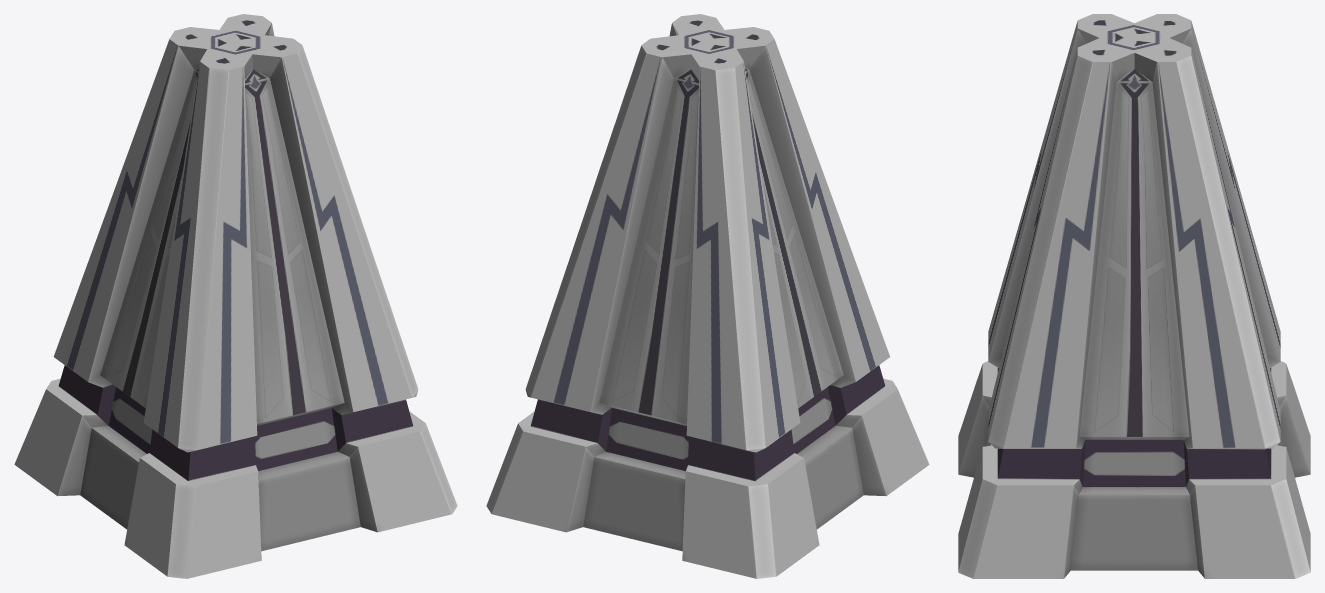
Rendered from Tower_base.fbx.
3 views of the same model, side by side, from view 1: azimuth 30°, elevation 25°; view 2: azimuth 150°, elevation 25°; view 3: azimuth 270°, elevation 25° (orthographic). The views are drawn at different scales.
Visible parts, largest first — view 1: Pyramid_base09; view 2: Pyramid_base09; view 3: Pyramid_base09.
Boxes of the visible parts, bbox=[...] form: Pyramid_base09: bbox=[14, 14, 457, 578]; Pyramid_base09: bbox=[486, 14, 929, 578]; Pyramid_base09: bbox=[958, 14, 1310, 578].
Bounding box in the file's own units: 2 × 2.93 × 2.
